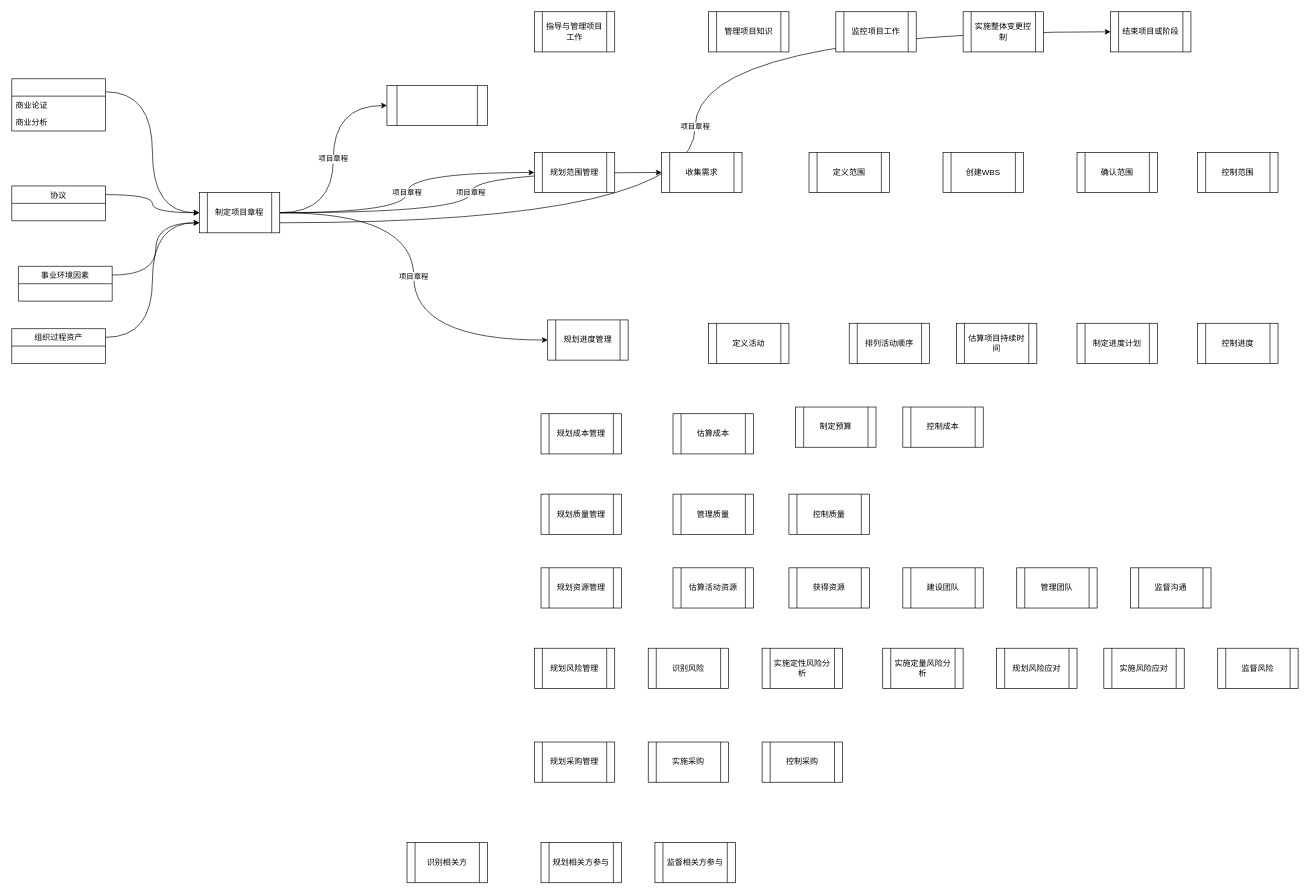
Image size: 1310x894. Some labels were removed from this diagram. The box of each missing label's shape, as (x1, y1, x2, y2) in pixels:
制定项目管理计划: (386, 85, 487, 126)
商业文件: (11, 78, 106, 131)
